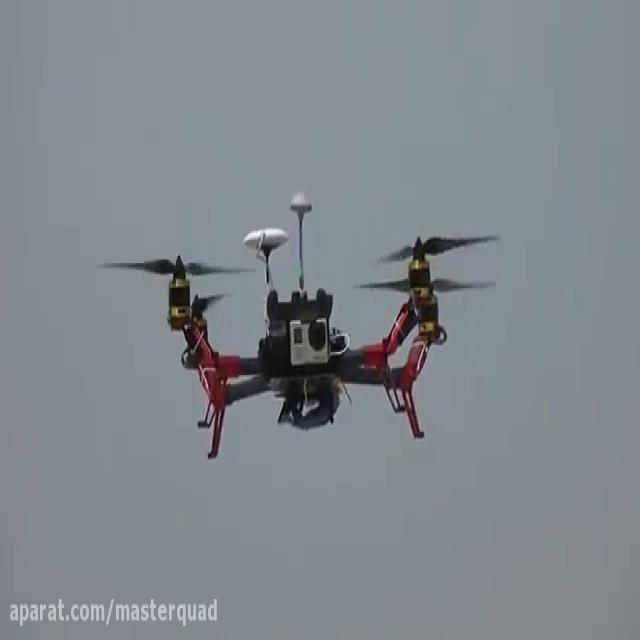drone: (91, 185, 504, 464)
